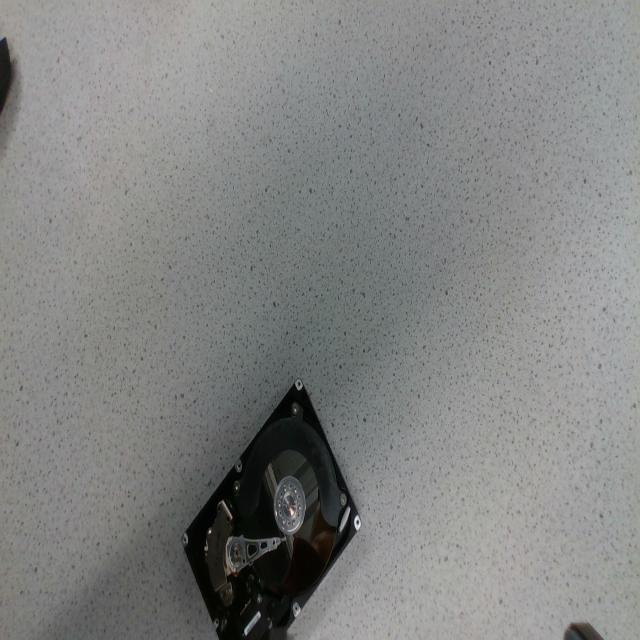actuator arm: (226, 536, 280, 572)
actuator axis: (234, 548, 239, 558)
case: (182, 379, 362, 639)
magnet: (206, 501, 232, 592)
pcb connector: (233, 593, 272, 638)
platter: (246, 451, 335, 592)
platter holder: (274, 476, 306, 535)
platter protector: (235, 404, 347, 527)
screw: (257, 593, 262, 604), (281, 517, 286, 524), (278, 500, 282, 508), (291, 519, 295, 525), (293, 488, 297, 494), (284, 484, 287, 492), (298, 504, 301, 511)
